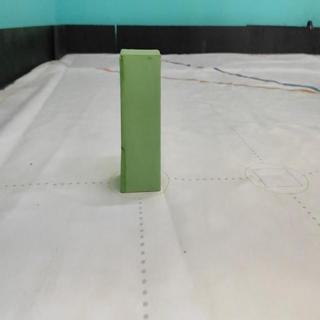greenbox: (120, 49, 161, 193)
